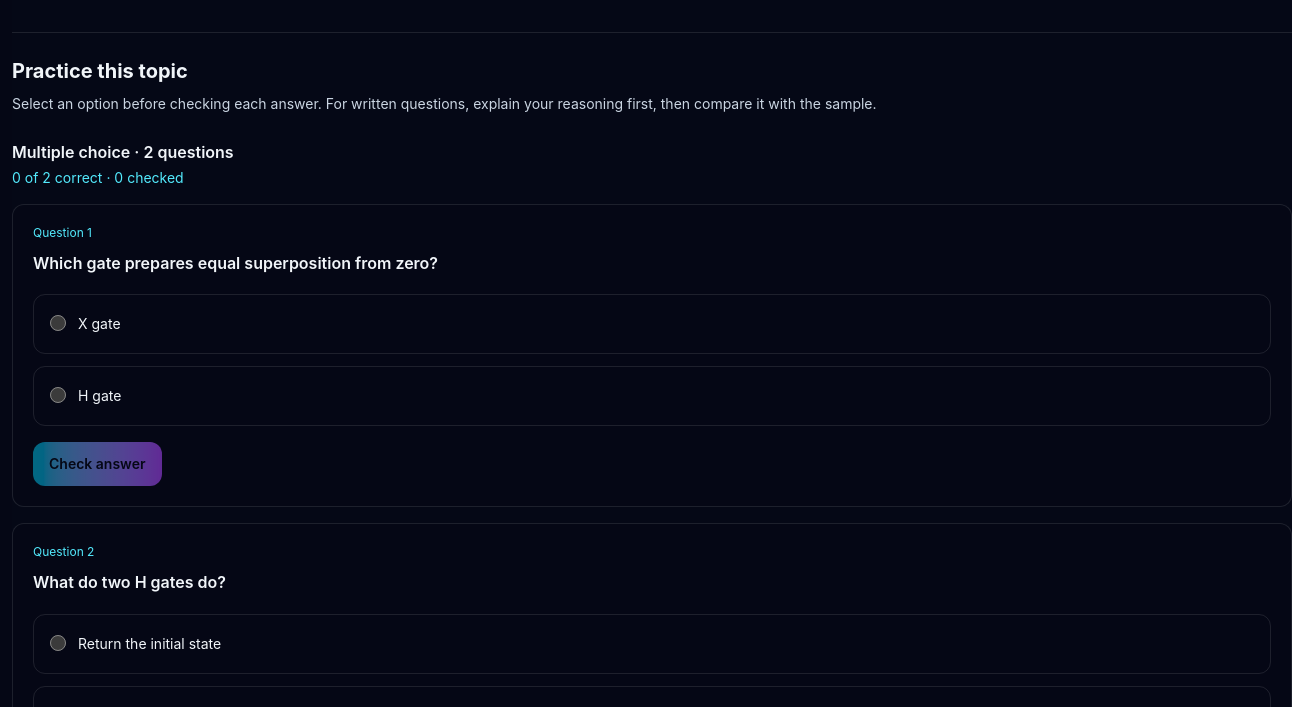
Scenario: requires a selection and keeps answers hidden until the learner checks
The width and height of the screenshot is (1292, 707).
Check: the button "Check answer" is disabled, box top-left (33, 442), bottom-right (162, 486)
Check: the text "Correct option" is not shown
Click the radio button labelled "H gate". click: [58, 395]
box: top-left (50, 387), bottom-right (66, 403)
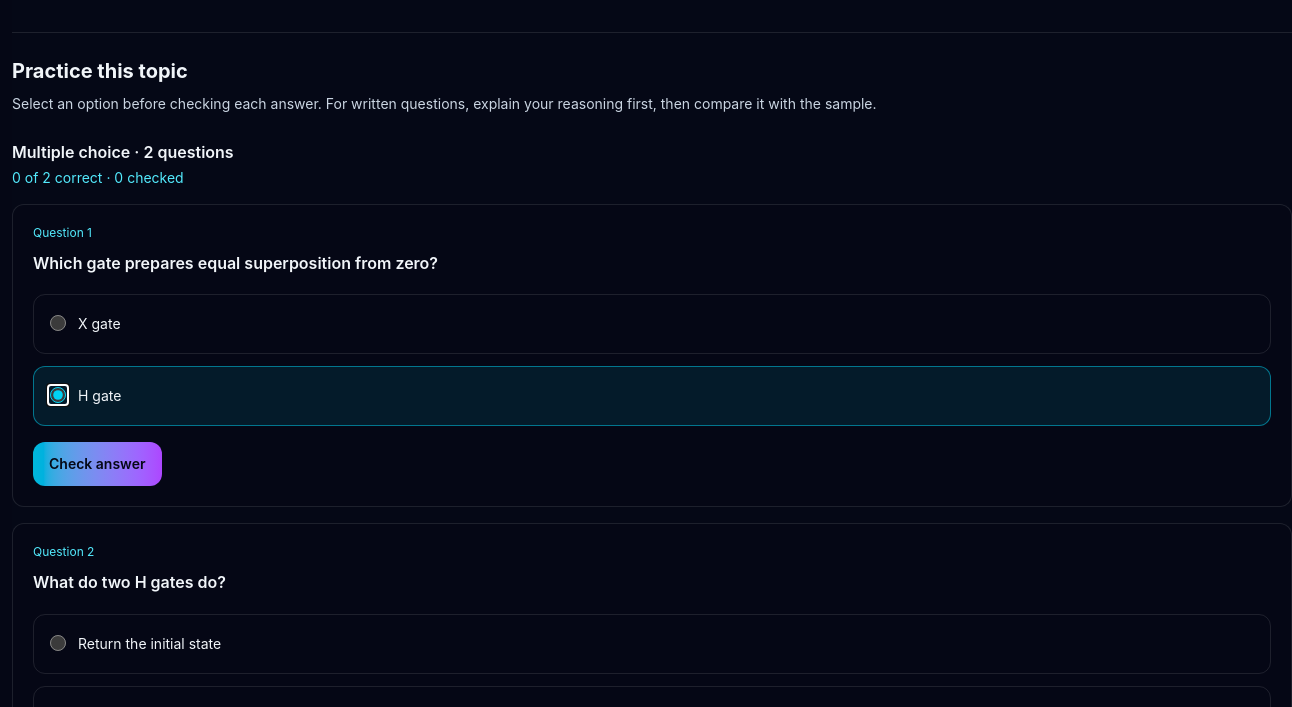
Check: the button "Check answer" is enabled
Click the button "Check answer". click: [97, 464]
box: top-left (33, 442), bottom-right (162, 486)
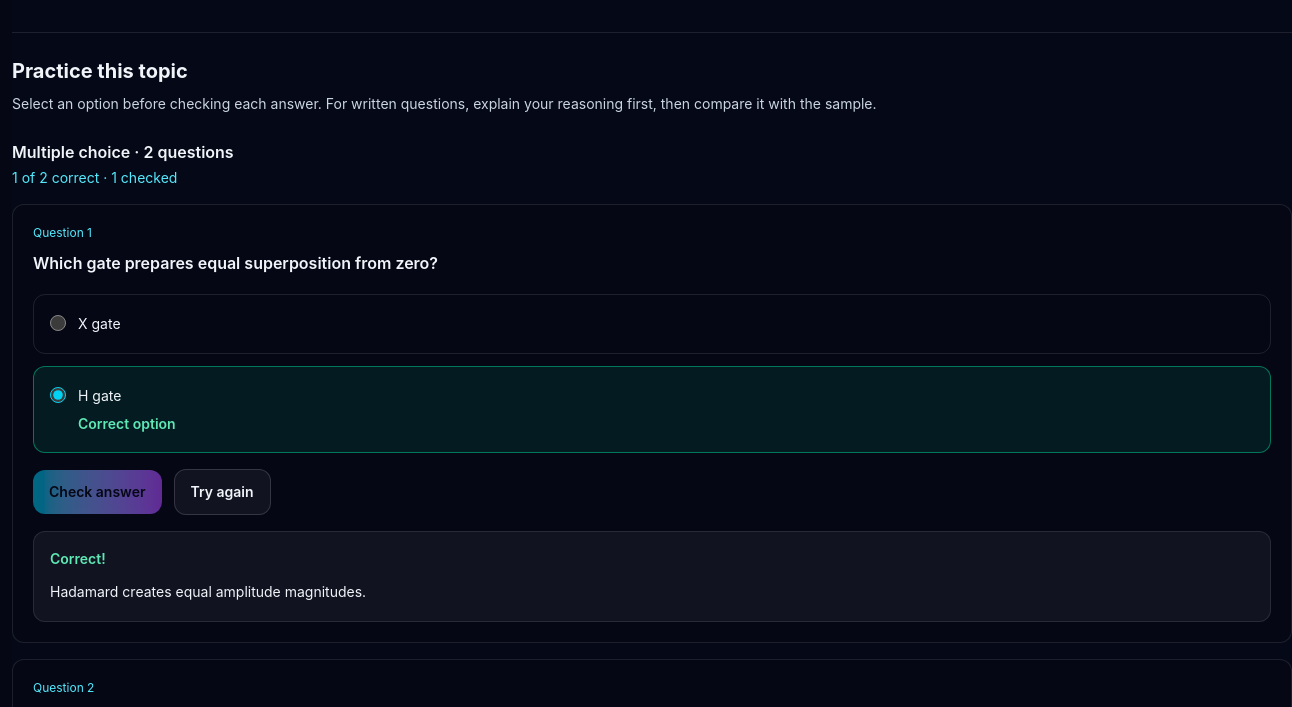
Check: the text "Correct!" is shown, box top-left (50, 550), bottom-right (106, 567)
Check: the text "Correct option" is shown, box top-left (78, 415), bottom-right (176, 432)
Check: the text "Hadamard creates equal amplitude magnitudes." is shown, box top-left (50, 583), bottom-right (366, 600)
